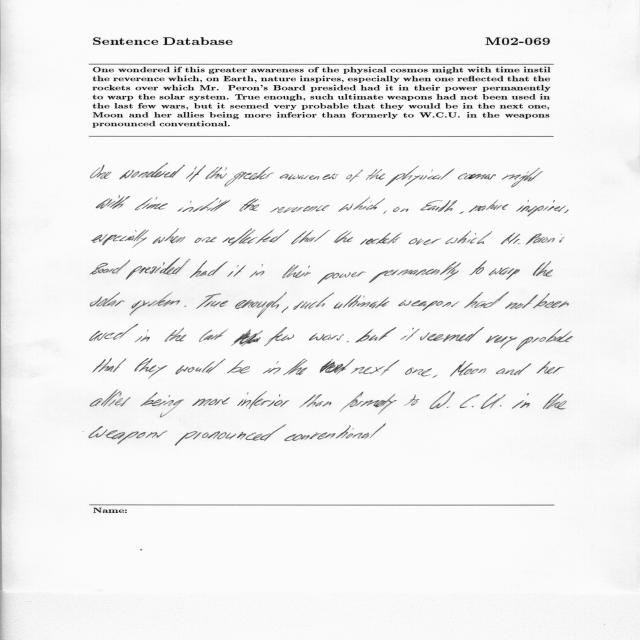word: (175, 424, 287, 446), (369, 262, 461, 283), (385, 166, 455, 187), (126, 258, 191, 280), (89, 426, 167, 444), (430, 391, 506, 409), (320, 359, 400, 376), (285, 425, 370, 441), (235, 292, 287, 318), (339, 392, 397, 415), (516, 329, 573, 351), (222, 228, 289, 246), (231, 327, 294, 346), (130, 292, 180, 315), (91, 229, 149, 248), (140, 393, 184, 418), (119, 163, 185, 179), (224, 167, 274, 187), (420, 327, 484, 342), (237, 391, 289, 409), (90, 324, 138, 341), (175, 359, 226, 375), (516, 200, 566, 216), (178, 197, 231, 212), (334, 295, 390, 309), (502, 168, 543, 187), (294, 292, 335, 310), (464, 292, 509, 308), (134, 358, 168, 379), (338, 197, 385, 212), (90, 390, 131, 407), (190, 260, 228, 278), (398, 300, 460, 311), (355, 327, 397, 343), (318, 271, 367, 284), (445, 231, 492, 244), (90, 260, 130, 275), (450, 361, 486, 377), (292, 230, 331, 244), (533, 293, 569, 308), (153, 228, 186, 244), (90, 292, 125, 307), (469, 200, 509, 213), (196, 293, 228, 309), (360, 233, 402, 245), (505, 294, 538, 309), (270, 205, 330, 213), (96, 195, 130, 209), (93, 359, 127, 373), (486, 335, 518, 349), (299, 394, 331, 408), (421, 200, 458, 212), (135, 197, 168, 210), (496, 363, 531, 375), (526, 234, 564, 245), (488, 267, 520, 280), (283, 359, 307, 376), (543, 393, 567, 410), (280, 173, 338, 180), (282, 265, 311, 278), (199, 329, 227, 342), (537, 361, 565, 374), (192, 398, 230, 407), (186, 165, 206, 182), (165, 327, 187, 342), (227, 360, 250, 374), (533, 261, 553, 277), (91, 165, 112, 179), (512, 393, 530, 409), (205, 167, 227, 180), (309, 333, 344, 341), (458, 173, 496, 180), (240, 199, 260, 212), (400, 328, 420, 341), (470, 261, 487, 276), (334, 230, 353, 243), (405, 368, 432, 377), (263, 361, 281, 374), (409, 238, 442, 245), (501, 233, 520, 245), (227, 265, 246, 277), (370, 424, 386, 438), (346, 170, 363, 183), (250, 264, 265, 278), (366, 169, 385, 180), (135, 330, 150, 343), (404, 395, 419, 406), (194, 237, 217, 243), (393, 207, 409, 212), (282, 306, 289, 313), (564, 210, 569, 214), (383, 210, 387, 214), (433, 375, 438, 378), (460, 211, 464, 214), (347, 341, 349, 343), (184, 306, 186, 307)
